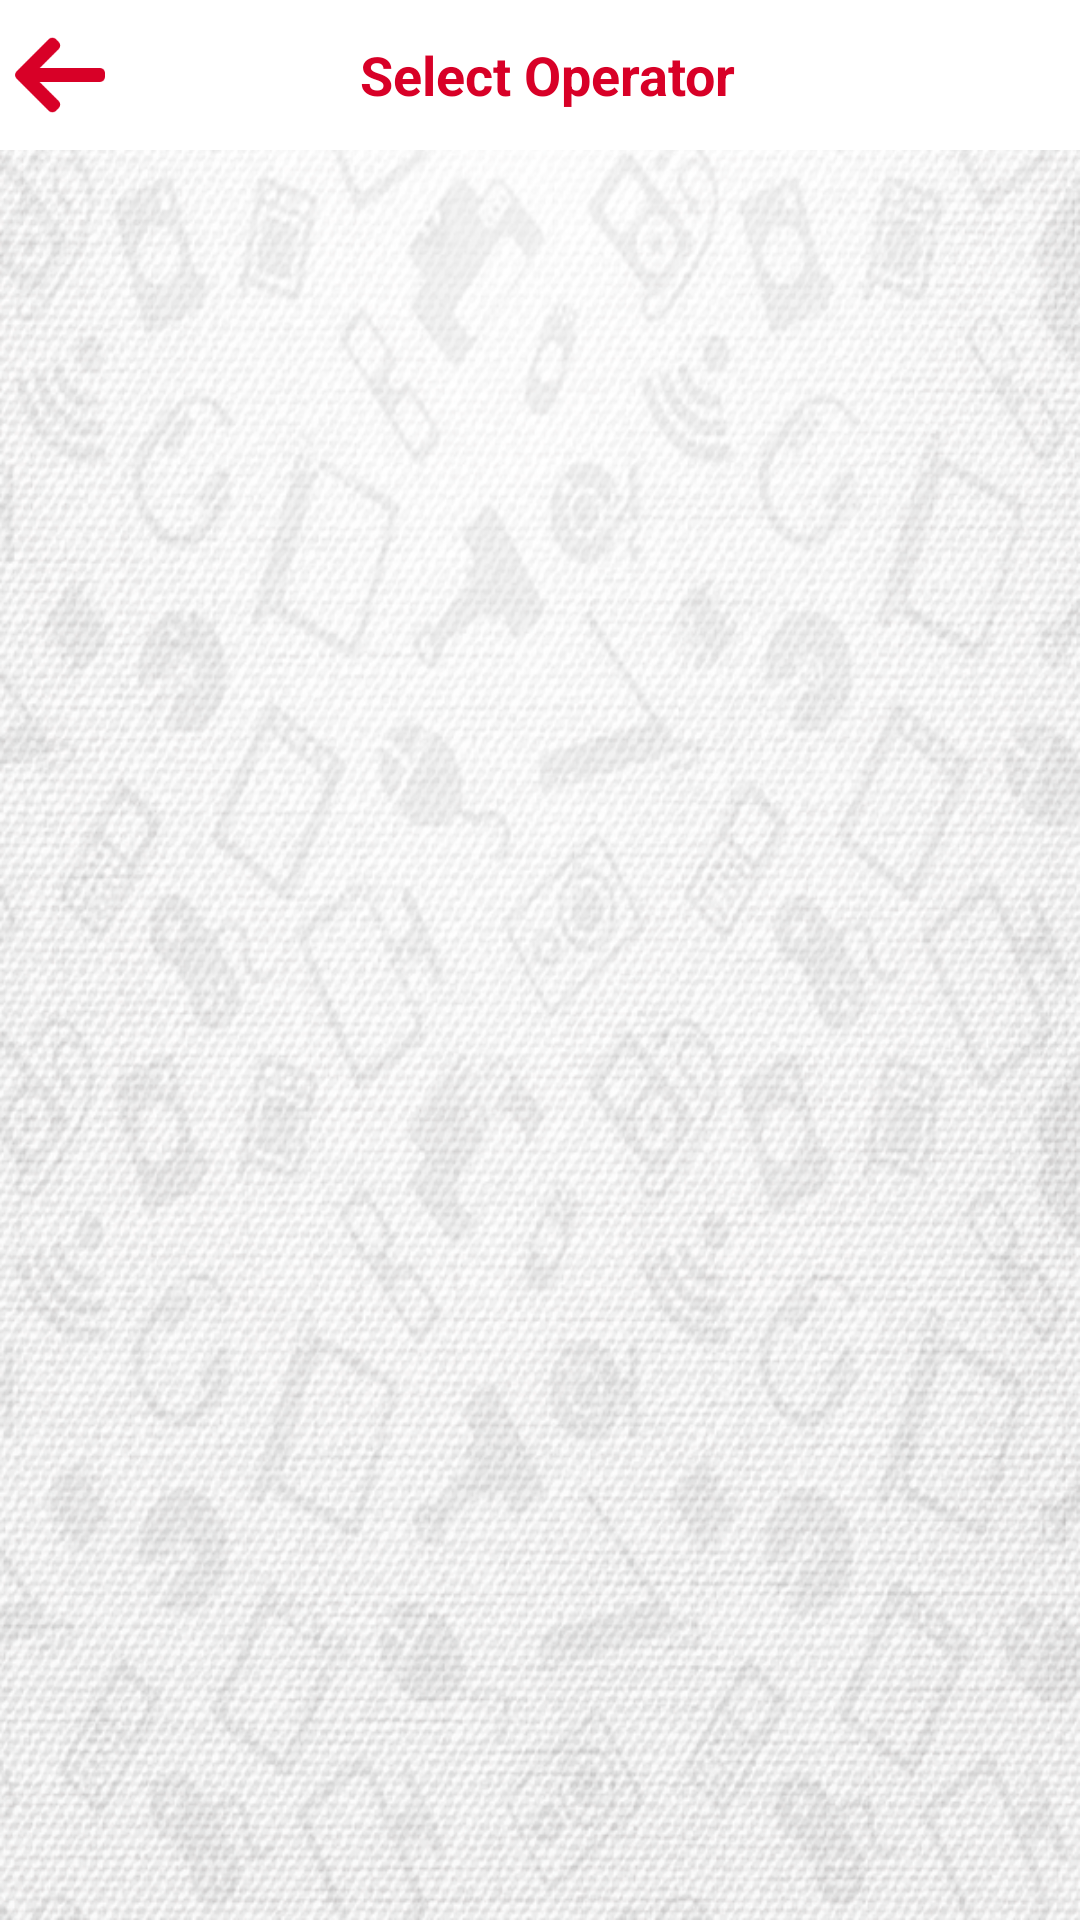

Icon click points for this 1080*1920 phone screenshot, format point (x, y):
back: point (60, 75)
